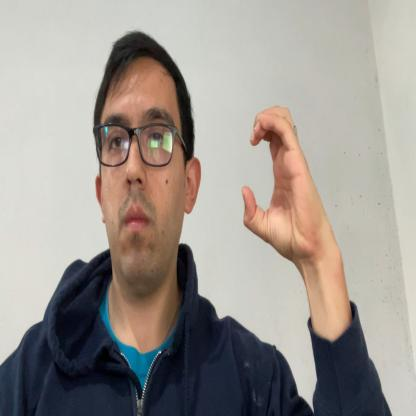C: (241, 102, 309, 260)
